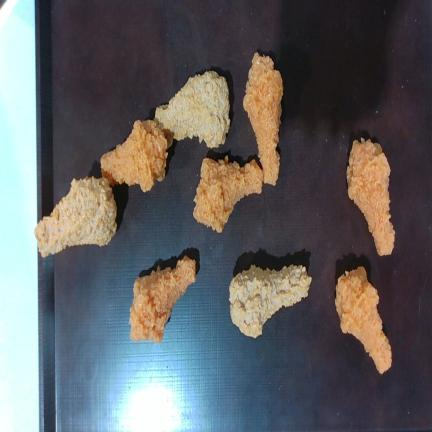chicken: (34, 176, 116, 257), (335, 266, 392, 373), (229, 265, 312, 338), (155, 71, 230, 148), (130, 256, 195, 342), (347, 138, 395, 254), (243, 52, 283, 185), (193, 157, 263, 232), (101, 120, 173, 191)
